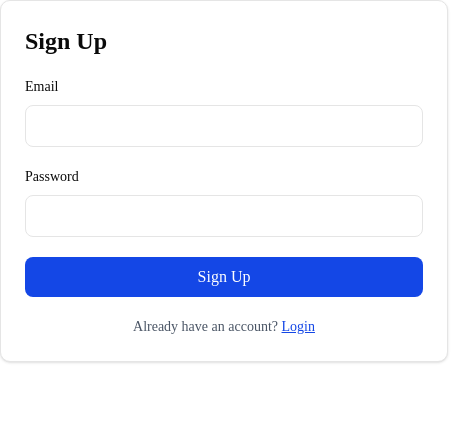
Test: auth flow › shows an error for duplicate signup email
Type "taken@example.com" into the field with test id "auth-signup-email".
click(224, 126); type("taken@example.com")  # box top-left (25, 105), bottom-right (423, 147)
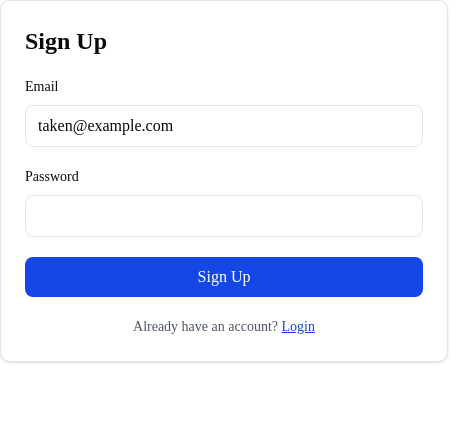
Type "password123" into the password field with test id "auth-signup-password".
click(224, 216); type("password123")  # box top-left (25, 195), bottom-right (423, 237)
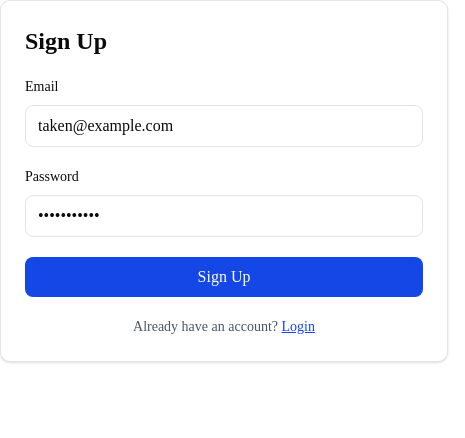
Click the button with test id "auth-signup-submit".
click(224, 277)  # box top-left (25, 257), bottom-right (423, 297)
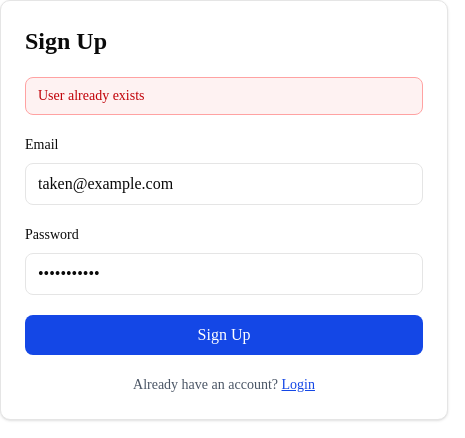
Now the message reads "User already exists", box top-left (38, 88), bottom-right (144, 103)
